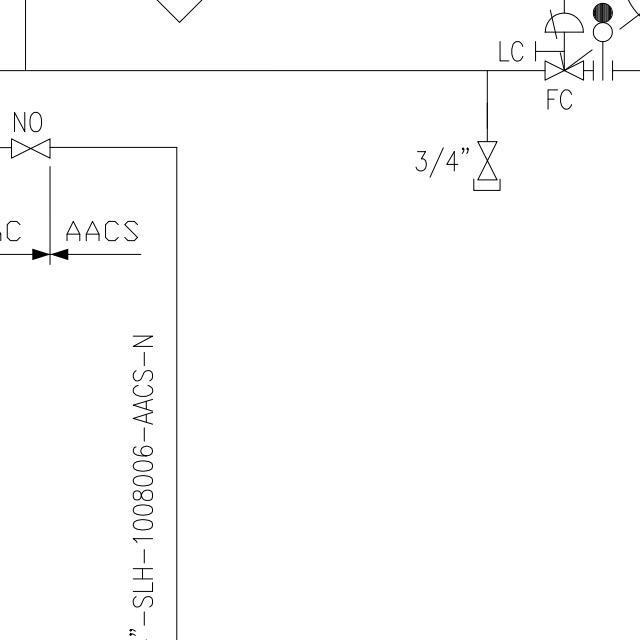EC: (468, 108, 506, 195)
FC: (544, 13, 586, 85)
GV: (7, 131, 56, 162), (476, 136, 499, 186)
